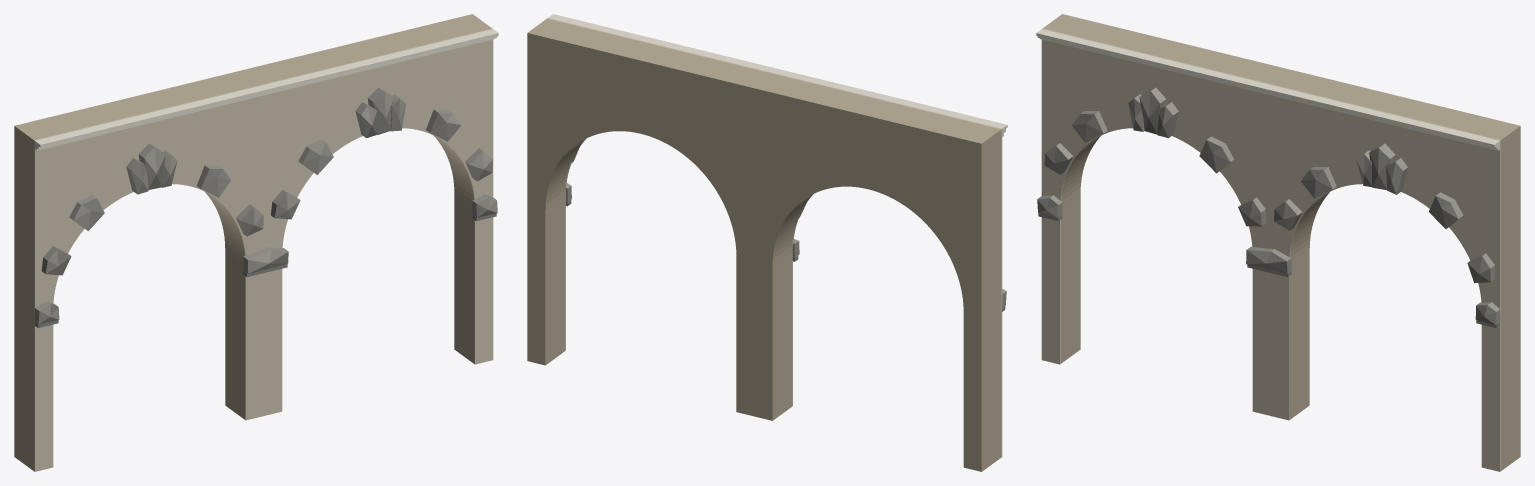
The model's file is xuhui-fenyang-experts-villa-twin-rusticated-arches-raw.glb.
The picture shows the model from 3 angles, left to right: view 1: azimuth 30°, elevation 25°; view 2: azimuth 150°, elevation 25°; view 3: azimuth 330°, elevation 25°; orthographic projection.
Visible parts, largest first — view 1: 上海音乐学院专家楼底层双券与毛石拱饰; view 2: 上海音乐学院专家楼底层双券与毛石拱饰; view 3: 上海音乐学院专家楼底层双券与毛石拱饰.
Boxes of the visible parts, x1,y1,x2,y2 form: 上海音乐学院专家楼底层双券与毛石拱饰: (14,14,498,471); 上海音乐学院专家楼底层双券与毛石拱饰: (527,14,1007,471); 上海音乐学院专家楼底层双券与毛石拱饰: (1036,14,1520,471).
Bounding box in the file's own units: 5.52 × 3.81 × 0.583.
